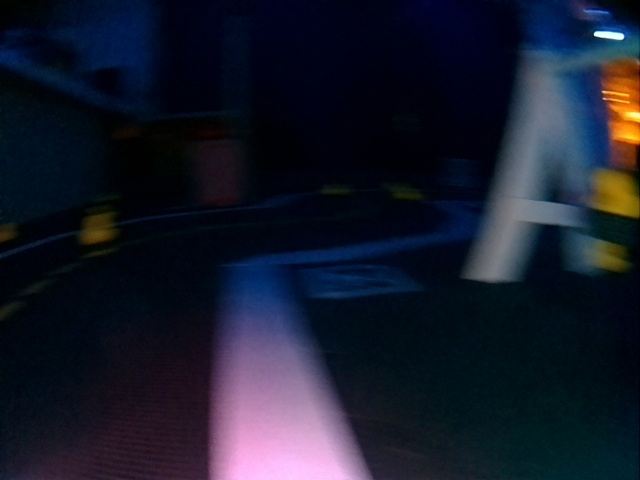Duckie: (83, 218, 111, 244), (1, 224, 15, 243)
QR code: (301, 264, 421, 297)
